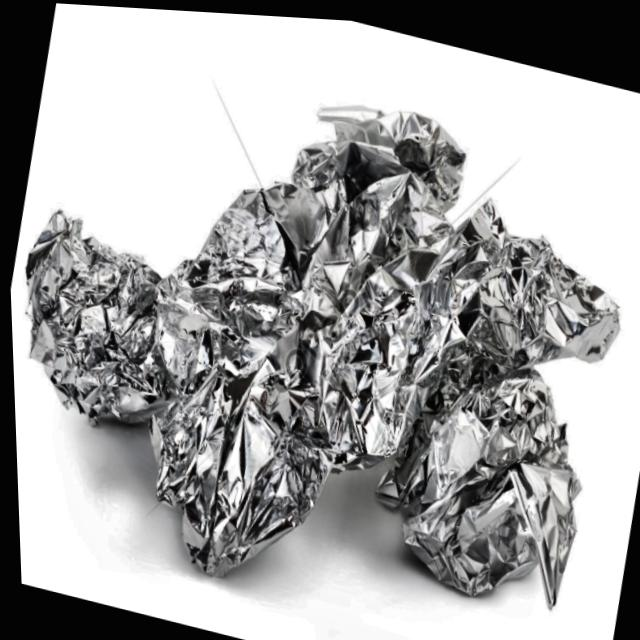Foil: (0, 15, 640, 640)
